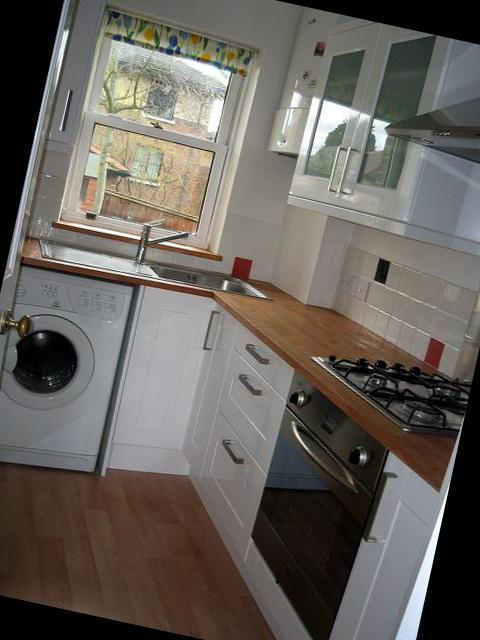Lavaplatos: (34, 194, 291, 312)
